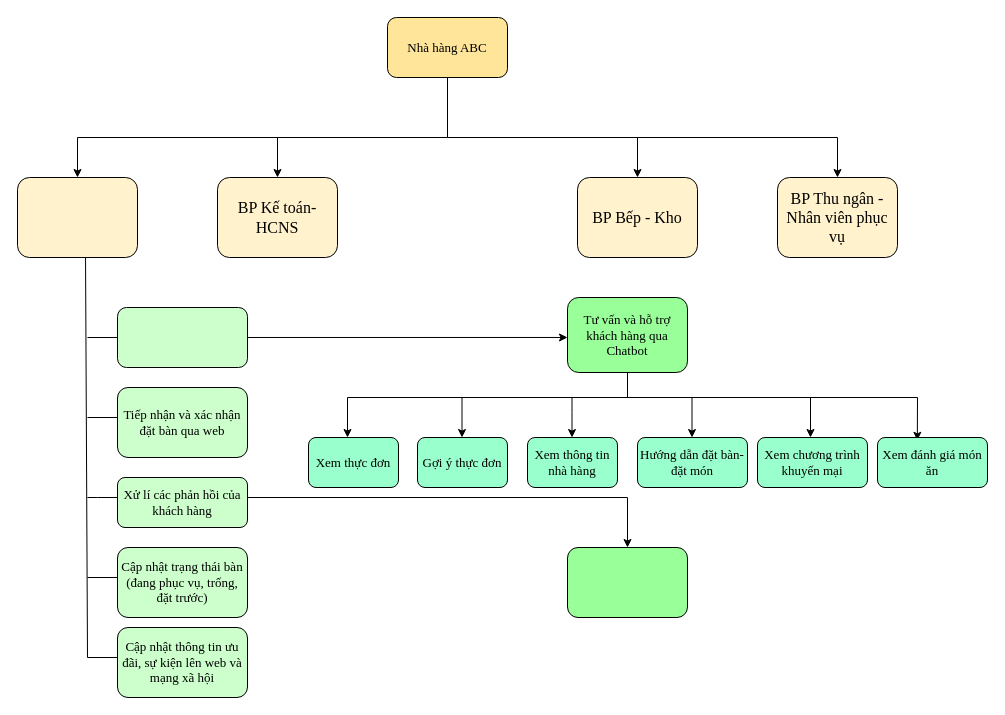
This 1005x715 diagram has some shape labels left out. Each missing label, with the centre of its shape:
"BP Chăm sóc khách hàng" belongs at [77,217].
"Trả lời tin nhắn khách hàng qua Zalo/Facebook" belongs at [182,337].
"Xử lí các phản hồi của khách hàng qua Chatbot" belongs at [627,582].
